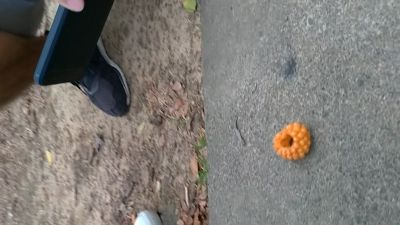eggs: (272, 124, 312, 160)
